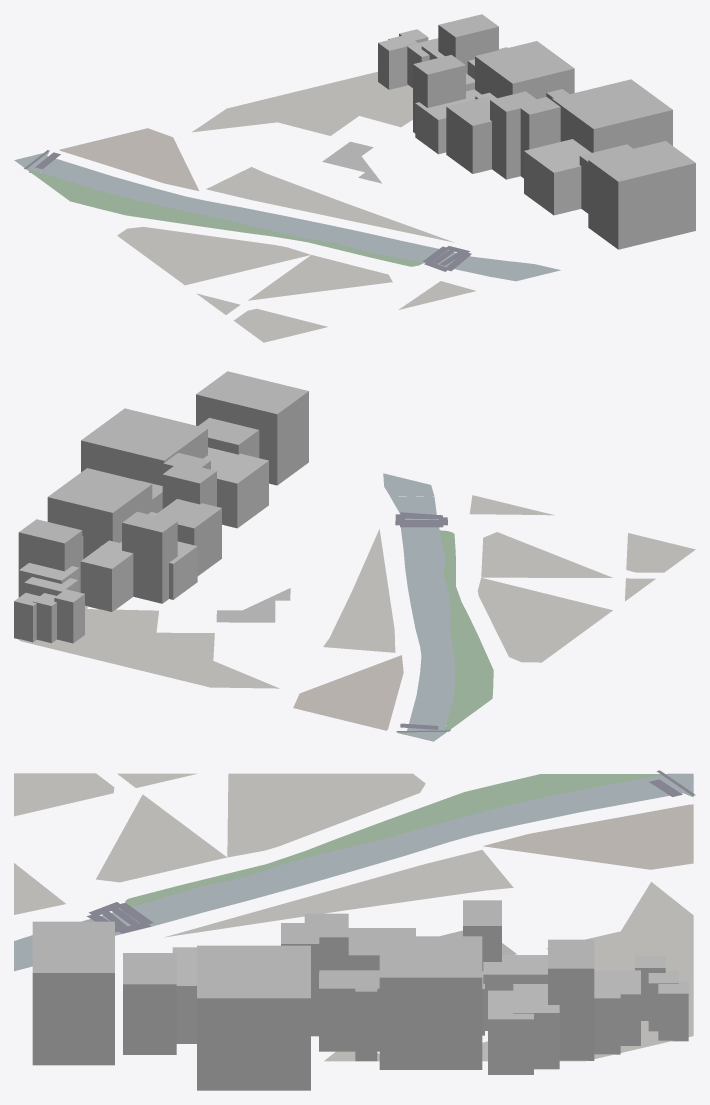
File: 124_100_mid.glb
3 renders of one model, top to bottom at view 1: azimuth 30°, elevation 25°; view 2: azimuth 150°, elevation 25°; view 3: azimuth 270°, elevation 25°, orthographic. The views are drawn at different scales.
Size of the model in its own units: 554 by 75.72 by 502.
